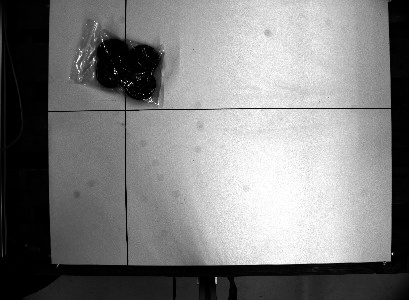t1: (64, 14, 175, 111)
